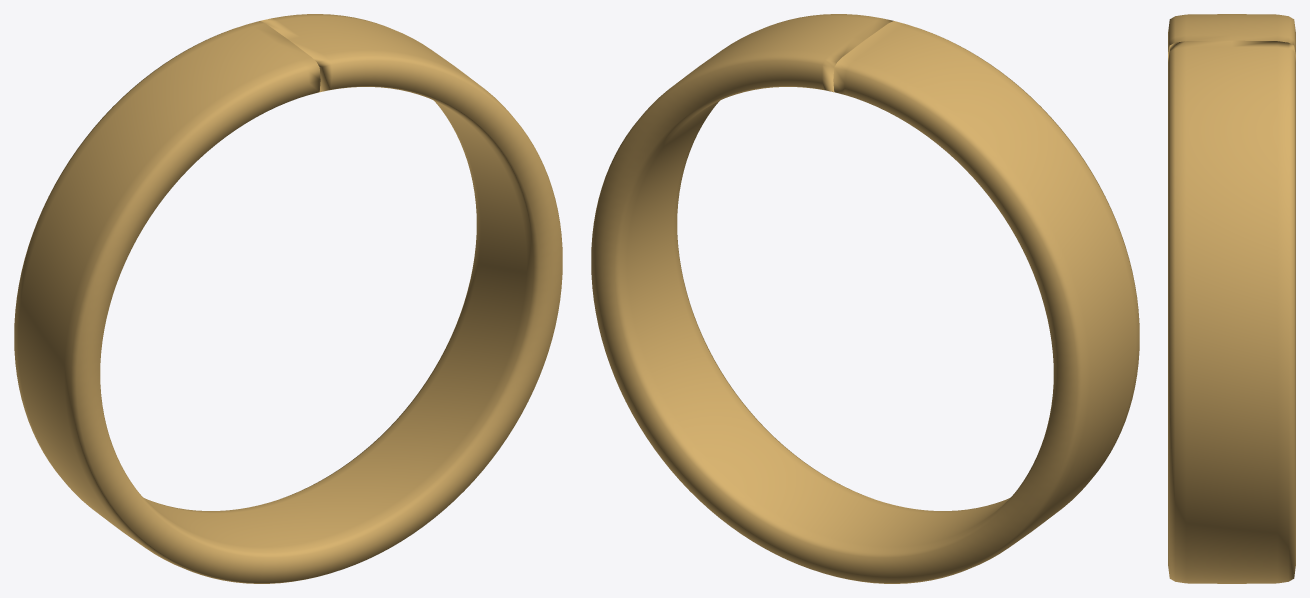
File: bands-wide.glb
3 renders of one model, left to right at view 1: azimuth 30°, elevation 25°; view 2: azimuth 150°, elevation 25°; view 3: azimuth 270°, elevation 25°, orthographic.
Parts seen in each view (by area): view 1: Band; view 2: Band; view 3: Band.
Boxes of the visible parts, x1,y1,x2,y2 form: Band: (14, 14, 562, 583); Band: (591, 14, 1139, 583); Band: (1168, 14, 1295, 583).
Size of the model in its own units: 19.6 by 19.6 by 4.4.
